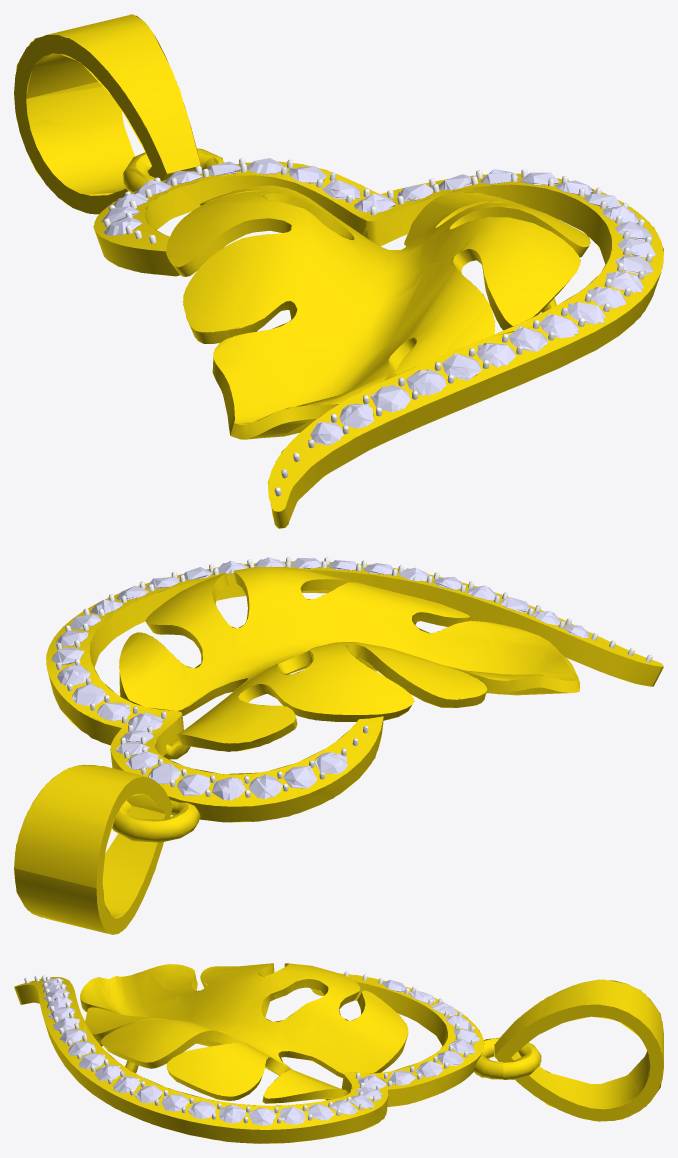
Rendered from DCP-D000657432.glb.
3 renders of one model, top to bottom at view 1: azimuth 30°, elevation 25°; view 2: azimuth 150°, elevation 25°; view 3: azimuth 270°, elevation 25°, orthographic. The views are drawn at different scales.
Parts seen in each view (by area): view 1: highPolyMesh, lowPolyMesh; view 2: highPolyMesh, lowPolyMesh; view 3: highPolyMesh, lowPolyMesh.
Part boxes in pixels (<box>): highPolyMesh: <box>14,14,663,528</box>; lowPolyMesh: <box>14,19,663,527</box>; highPolyMesh: <box>14,557,663,934</box>; lowPolyMesh: <box>14,557,663,934</box>; highPolyMesh: <box>14,963,663,1143</box>; lowPolyMesh: <box>14,963,663,1142</box>.
Size of the model in its own units: 0.0189 by 0.00576 by 0.029.
